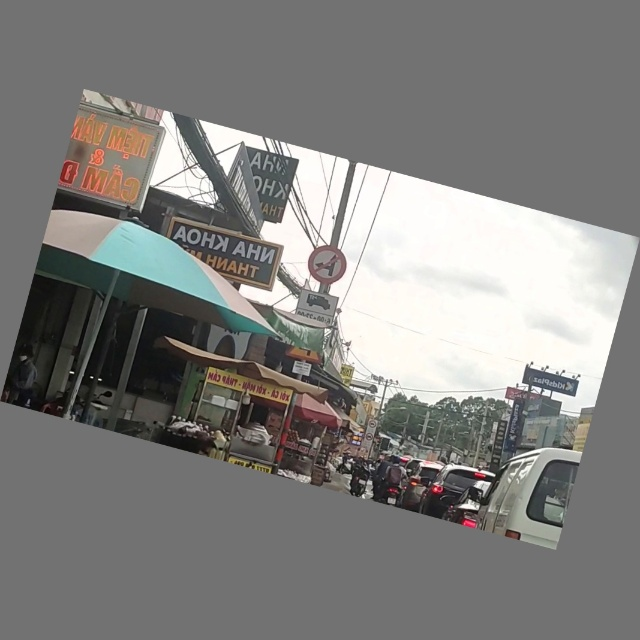P.139: (305, 244, 350, 287)
S.505a*Xe tai: (295, 290, 339, 329)
